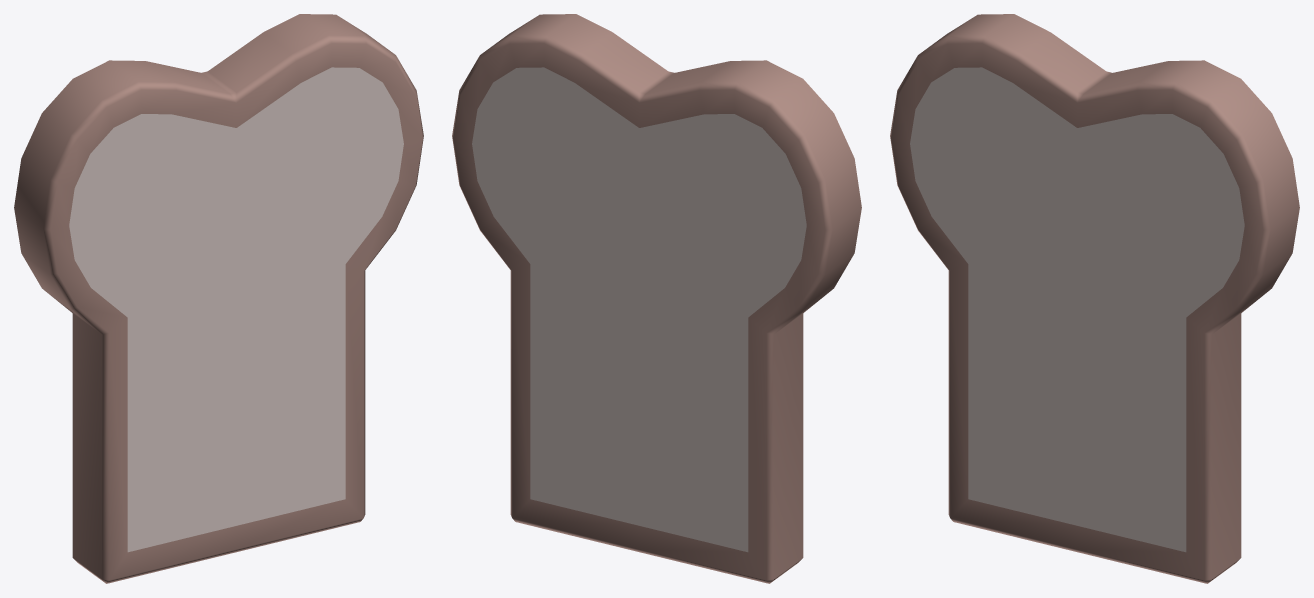
File: Store_18_Slice_Of_Bread_1.glb
3 views of the same model, side by side, from view 1: azimuth 30°, elevation 25°; view 2: azimuth 150°, elevation 25°; view 3: azimuth 330°, elevation 25° (orthographic).
Parts seen in each view (by area): view 1: Store_18_Slice_Of_Bread_1; view 2: Store_18_Slice_Of_Bread_1; view 3: Store_18_Slice_Of_Bread_1.
Boxes of the visible parts, x1,y1,x2,y2 form: Store_18_Slice_Of_Bread_1: (14,14,423,583); Store_18_Slice_Of_Bread_1: (452,14,861,583); Store_18_Slice_Of_Bread_1: (890,14,1299,583).
Bounding box in the file's own units: 0.22 × 0.2729 × 0.0352.
1 material, 1 textured.
